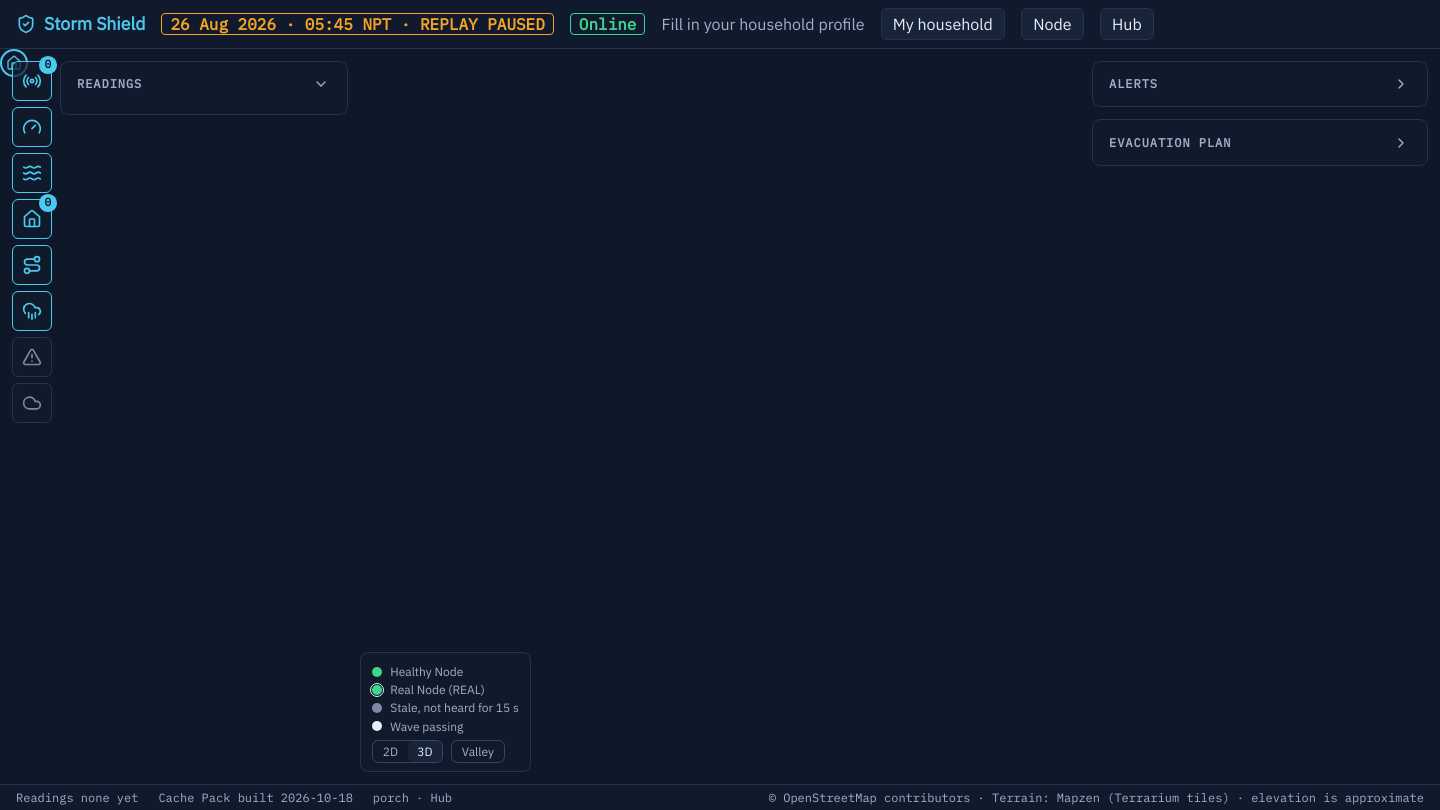
Weather layers on the map › labels Rain with its units, the recorded tag, the coarse note and the credit
What coordinates should you click on to do the following:
click the button named "Weather"
I would click on:
 (32, 403)
Its box is [12,383,52,423].
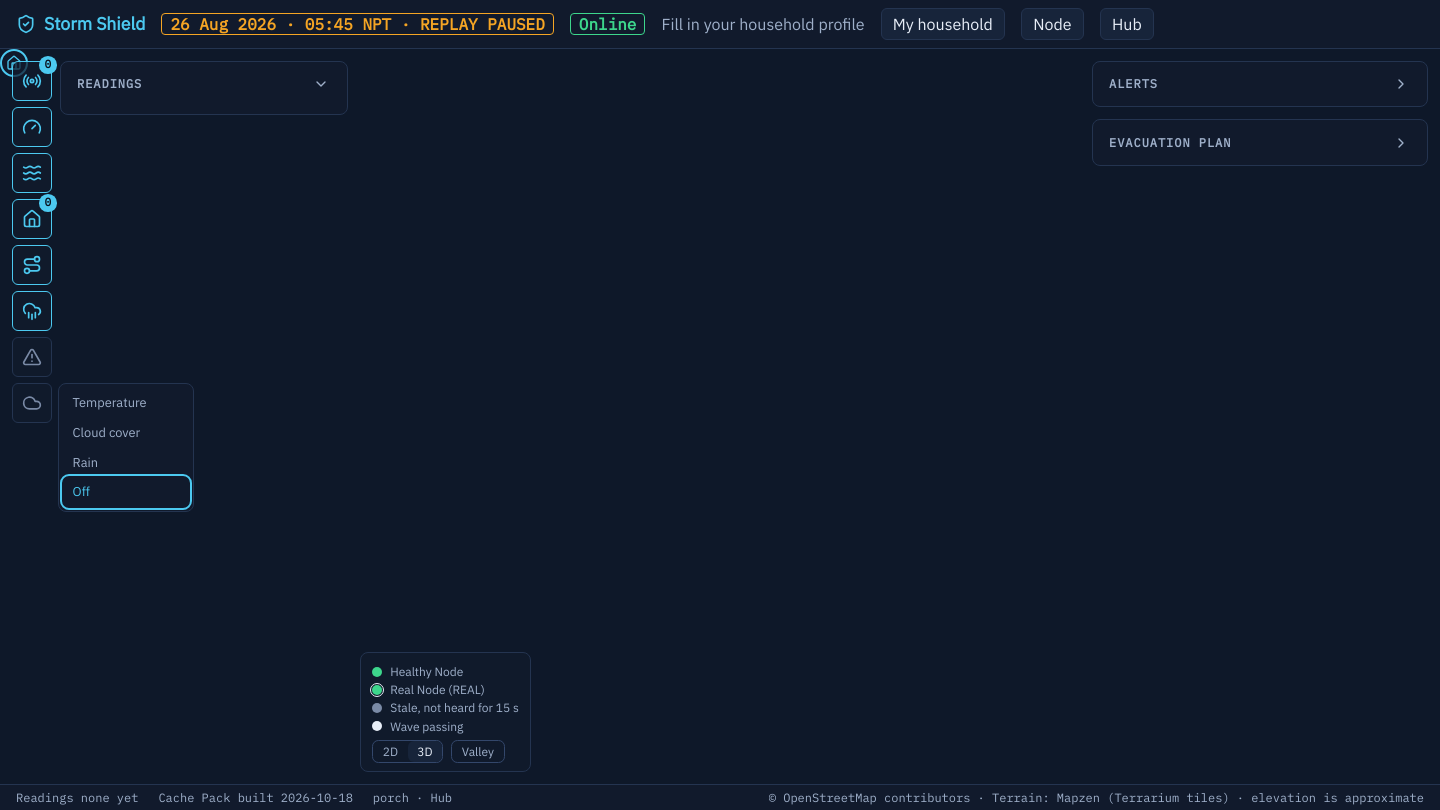
What coordinates should you click on to do the following:
click the radio button labelled "Rain"
I would click on:
 (126, 462)
Its box is [63,447,189,477].
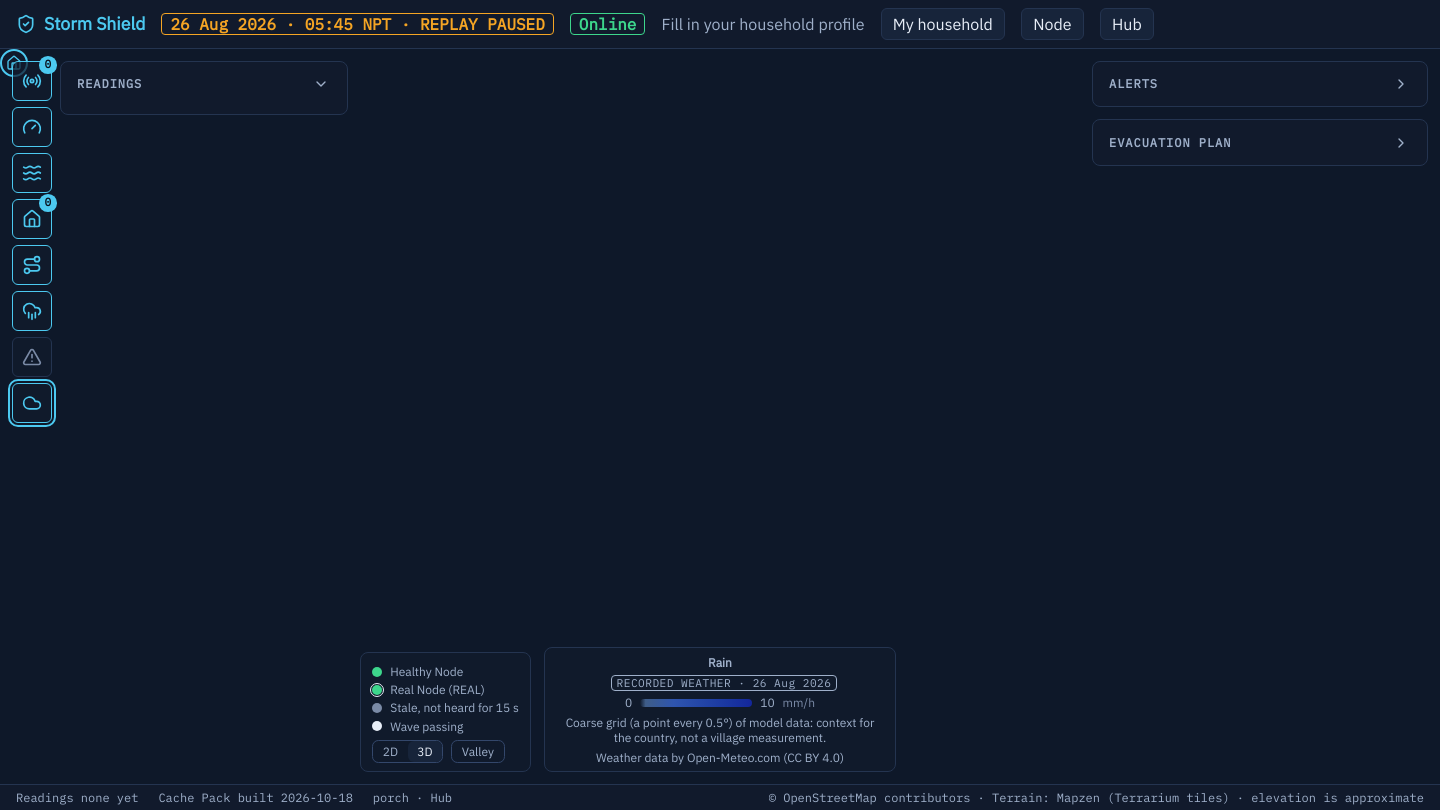
Expected: the text "RECORDED WEATHER · 26 Aug 2026" is shown, [611,675,837,691]
Expected: the element named "Weather legend" shows "Rain", [708,655,732,670]
Expected: the element named "Weather legend" shows "mm/h", [783,695,815,710]
